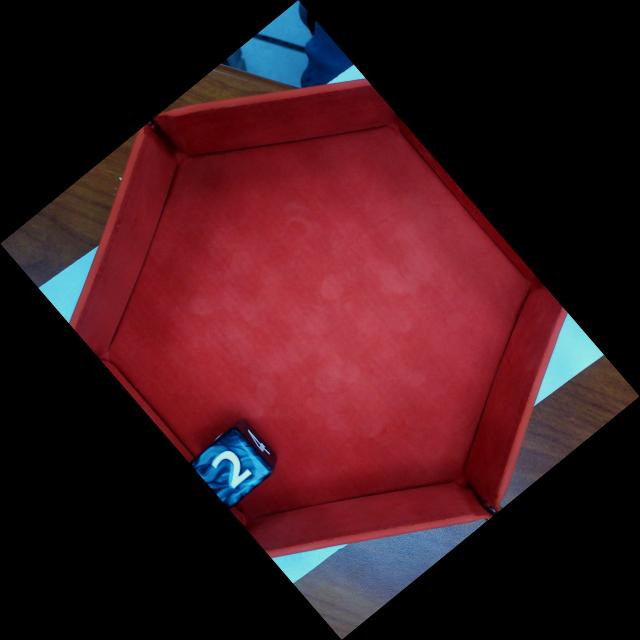dice: (188, 425, 275, 511)
